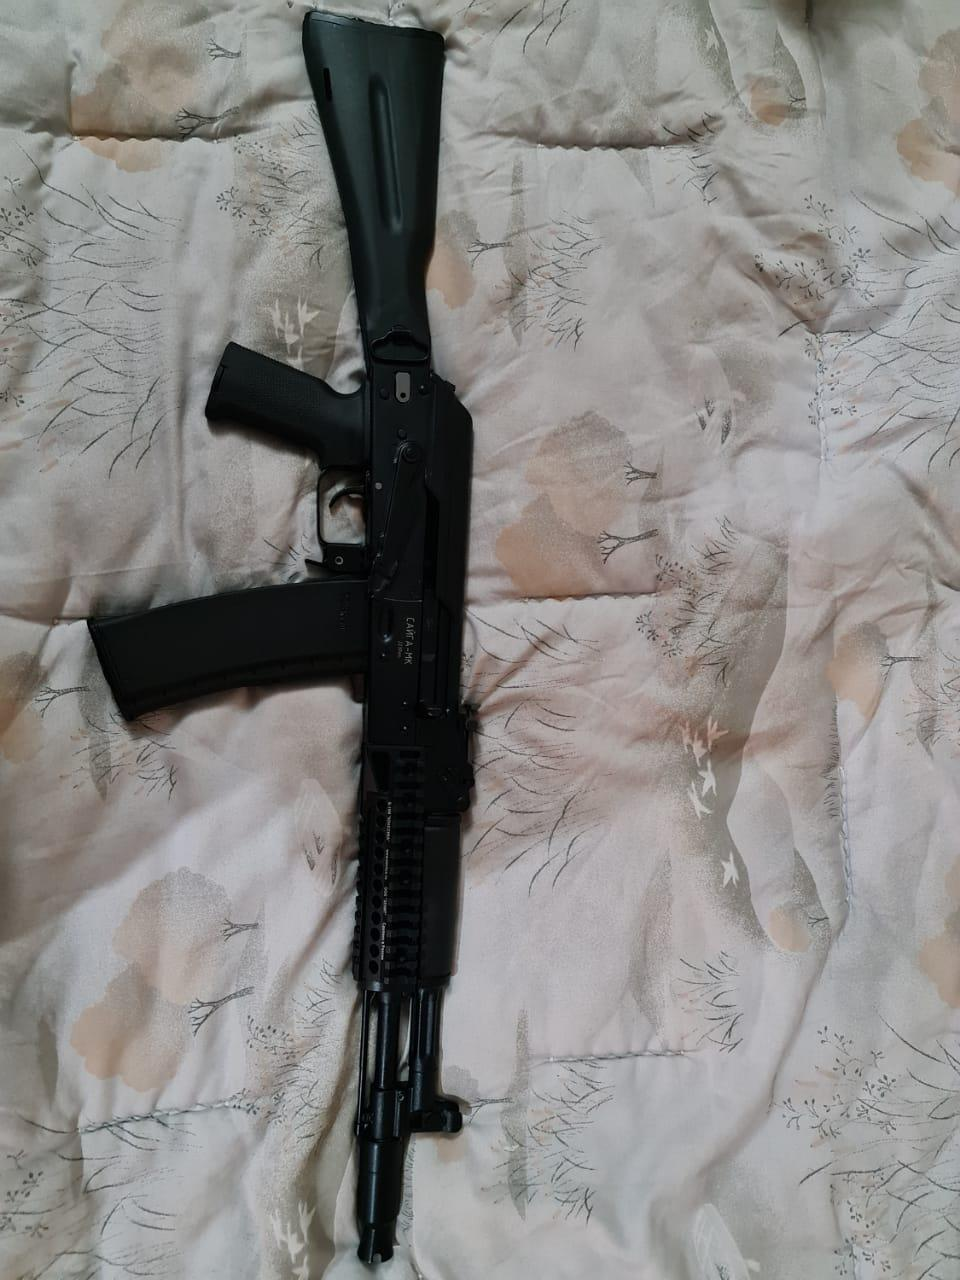weapon: (87, 8, 483, 1272)
